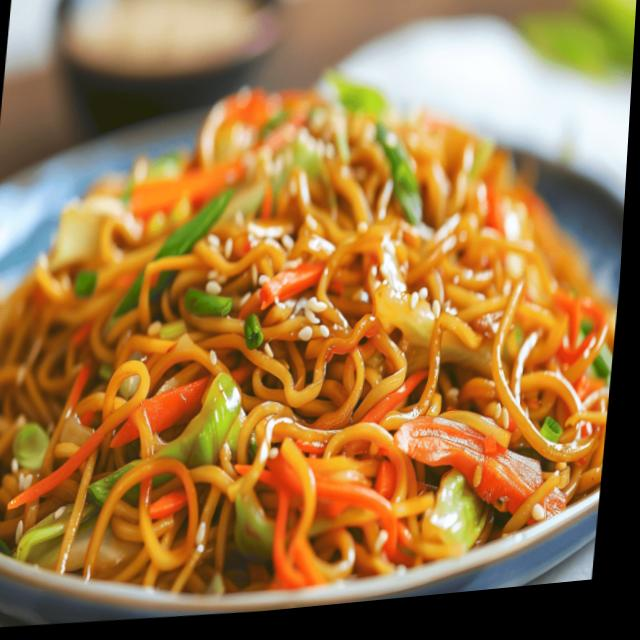Chow Mein: (0, 38, 634, 623)
